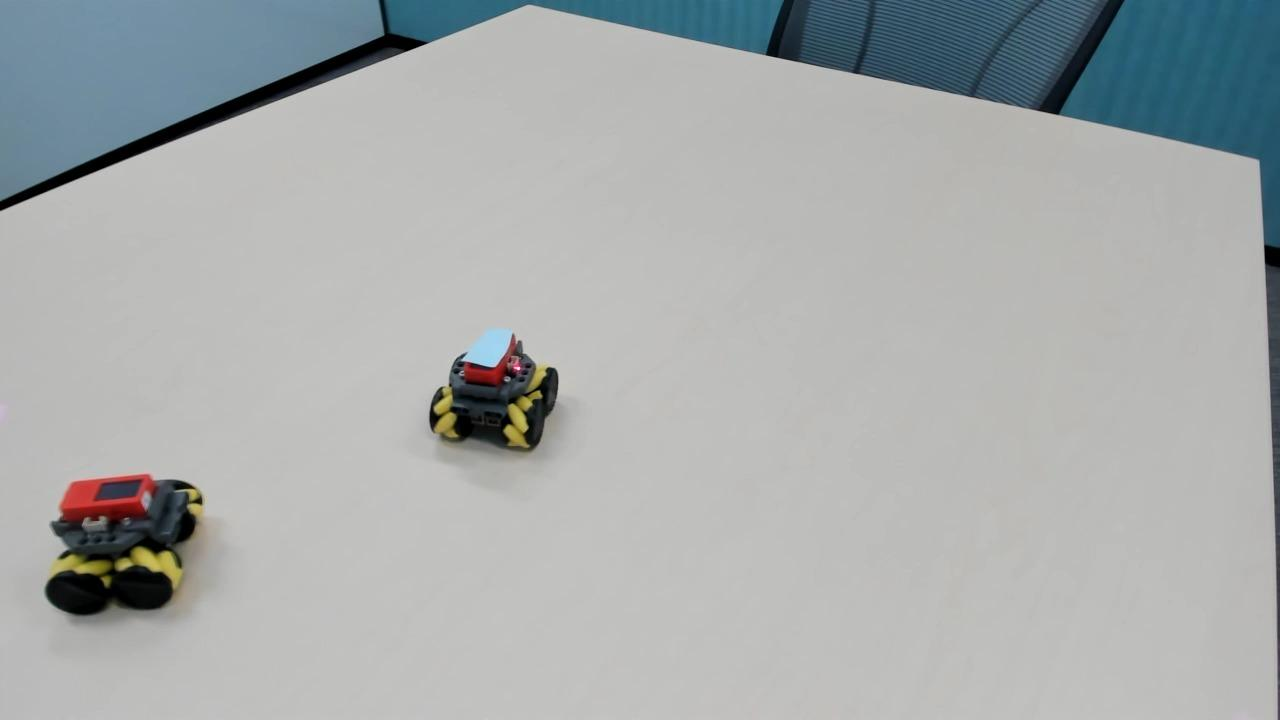B-Robot: (425, 315, 569, 469)
R-Robot: (44, 464, 206, 628)
